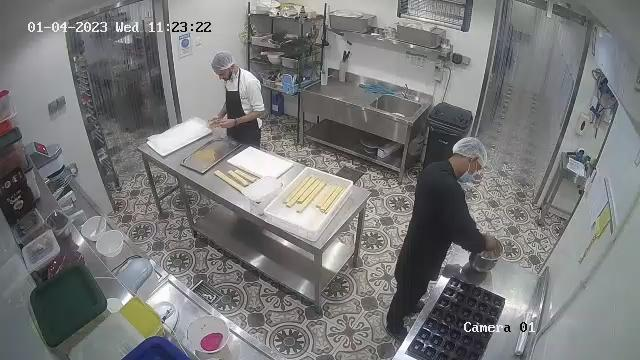apron: (222, 79, 256, 145)
